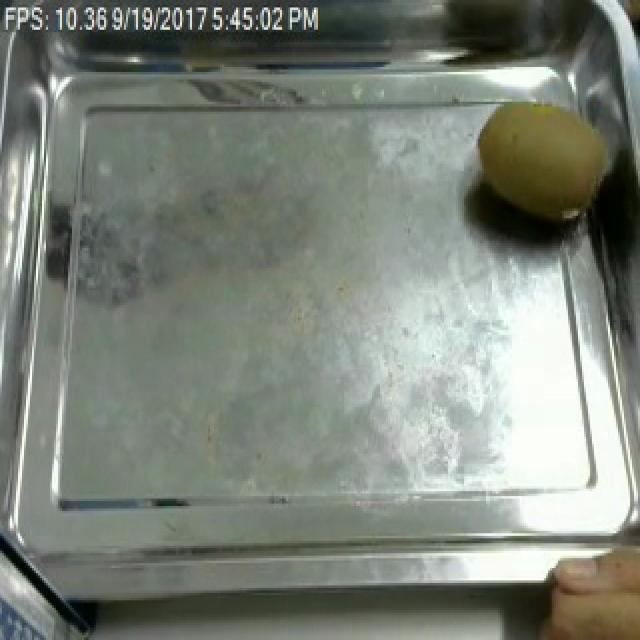Fruit: (460, 84, 628, 238)
